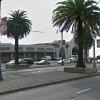Palm tree: (52, 1, 97, 70)
